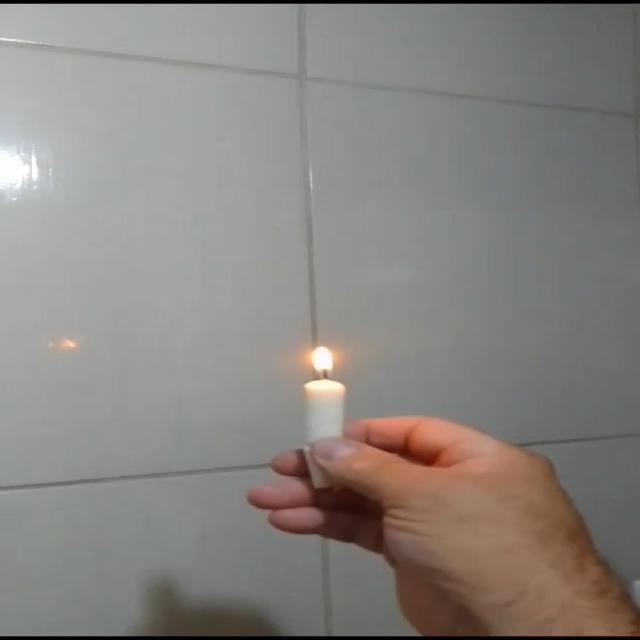fogo-ypXI: (300, 343, 340, 381)
